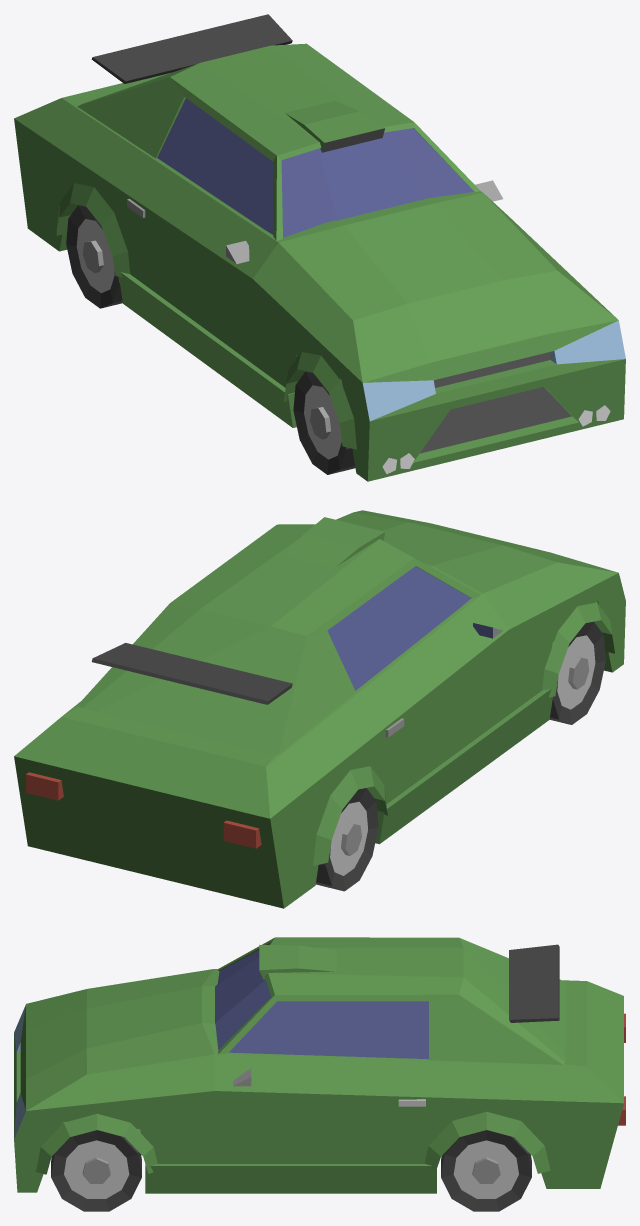
File: transport_sport_010.fbx
The picture shows the model from 3 angles, top to bottom: view 1: azimuth 30°, elevation 25°; view 2: azimuth 150°, elevation 25°; view 3: azimuth 270°, elevation 25°; orthographic projection. The views are drawn at different scales.
Parts seen in each view (by area): view 1: transport_sport_010; view 2: transport_sport_010; view 3: transport_sport_010.
Part boxes in pixels (x1,y1,x2,y2): transport_sport_010: [14, 14, 625, 481]; transport_sport_010: [14, 510, 625, 908]; transport_sport_010: [14, 937, 625, 1211].
Size of the model in its own units: 157 by 129 by 357.
